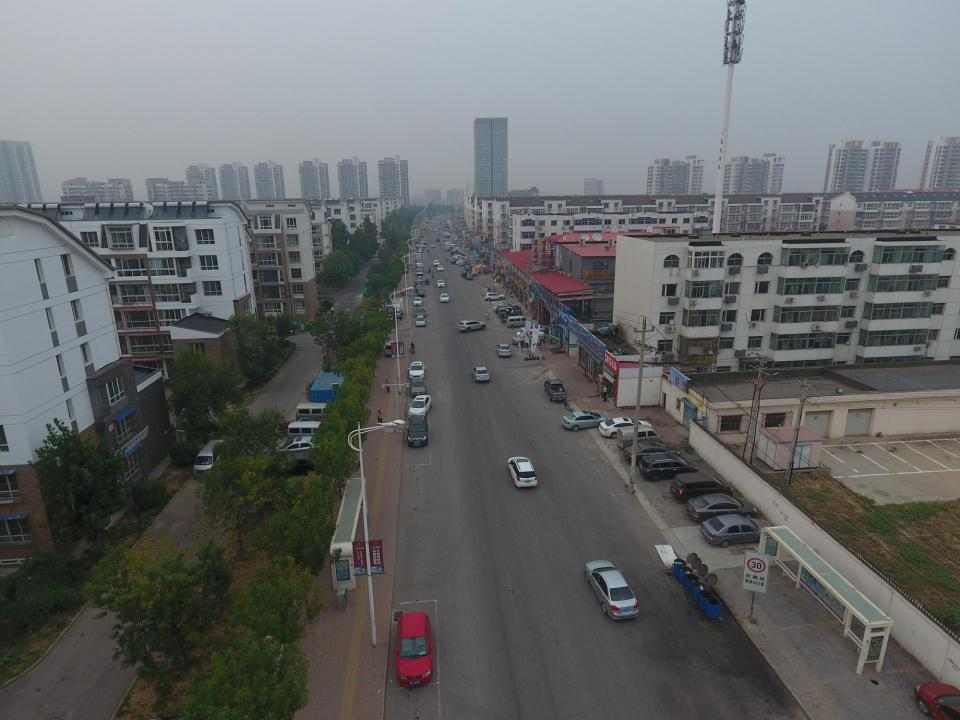car: (585, 559, 639, 619), (394, 612, 434, 686), (700, 513, 767, 548), (686, 494, 757, 524), (670, 472, 732, 502), (639, 452, 698, 483), (624, 440, 681, 466), (270, 453, 326, 478), (599, 417, 651, 439), (272, 437, 326, 457), (561, 411, 607, 432), (507, 457, 537, 487), (406, 415, 429, 446), (408, 394, 432, 419), (512, 334, 545, 345), (457, 320, 486, 332), (407, 361, 426, 379), (408, 378, 426, 396), (472, 366, 490, 382), (517, 330, 545, 340), (520, 324, 548, 334), (496, 306, 522, 316), (496, 343, 511, 357), (484, 292, 506, 301), (493, 303, 517, 311), (415, 315, 426, 327), (412, 296, 422, 306), (415, 308, 426, 317), (439, 294, 449, 302), (417, 290, 425, 298), (436, 280, 445, 287), (416, 284, 423, 292), (416, 276, 423, 283), (414, 280, 422, 286), (415, 261, 423, 266), (438, 265, 444, 271), (434, 260, 440, 266), (417, 264, 423, 270)
truck: (544, 378, 567, 401), (391, 298, 403, 318), (412, 253, 421, 262)
van: (190, 439, 225, 480), (617, 425, 662, 451), (288, 421, 330, 444), (297, 402, 338, 424), (507, 316, 529, 328), (498, 307, 522, 317), (384, 340, 395, 357), (416, 268, 422, 276)
